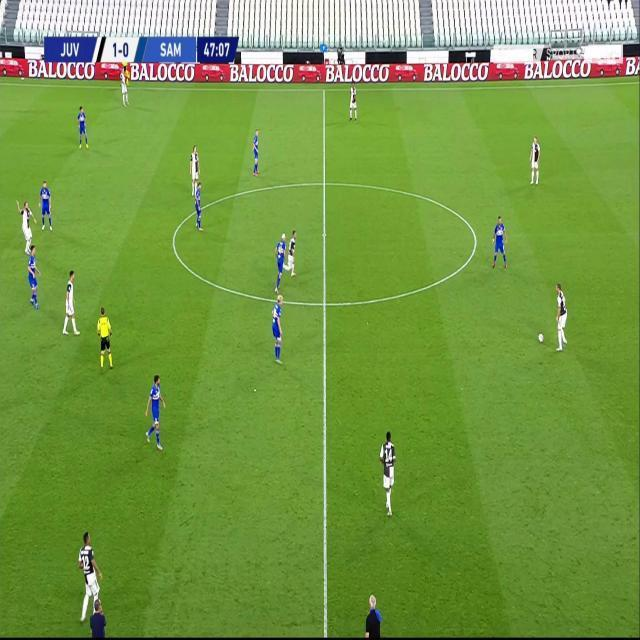ball: (537, 331, 544, 344)
player: (76, 527, 103, 624), (144, 371, 167, 452), (378, 427, 397, 517), (61, 267, 80, 336), (553, 280, 569, 353), (15, 198, 35, 252), (491, 213, 509, 271), (26, 243, 41, 311), (271, 293, 284, 365), (274, 231, 286, 292), (39, 179, 53, 230), (528, 133, 541, 185), (285, 228, 298, 278), (76, 105, 89, 150), (194, 178, 204, 231), (189, 143, 199, 195), (251, 127, 261, 176), (119, 63, 129, 107), (348, 80, 358, 121)
referee: (95, 303, 114, 371)
